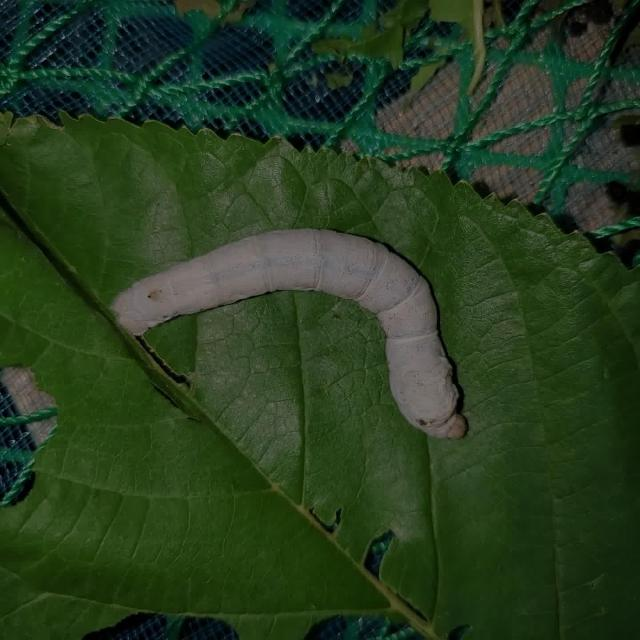Healthy: (102, 213, 474, 452)
